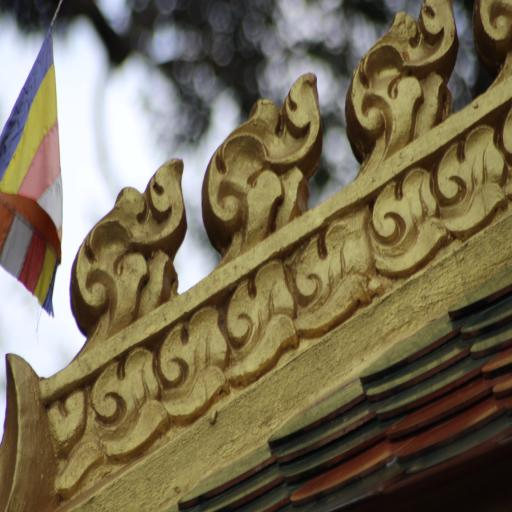la: (296, 203, 372, 335), (100, 326, 164, 462), (372, 154, 439, 279), (437, 125, 511, 238), (229, 250, 291, 380), (165, 296, 228, 422), (48, 386, 94, 496)
lua: (73, 152, 188, 334), (202, 74, 322, 245), (344, 0, 457, 162)
